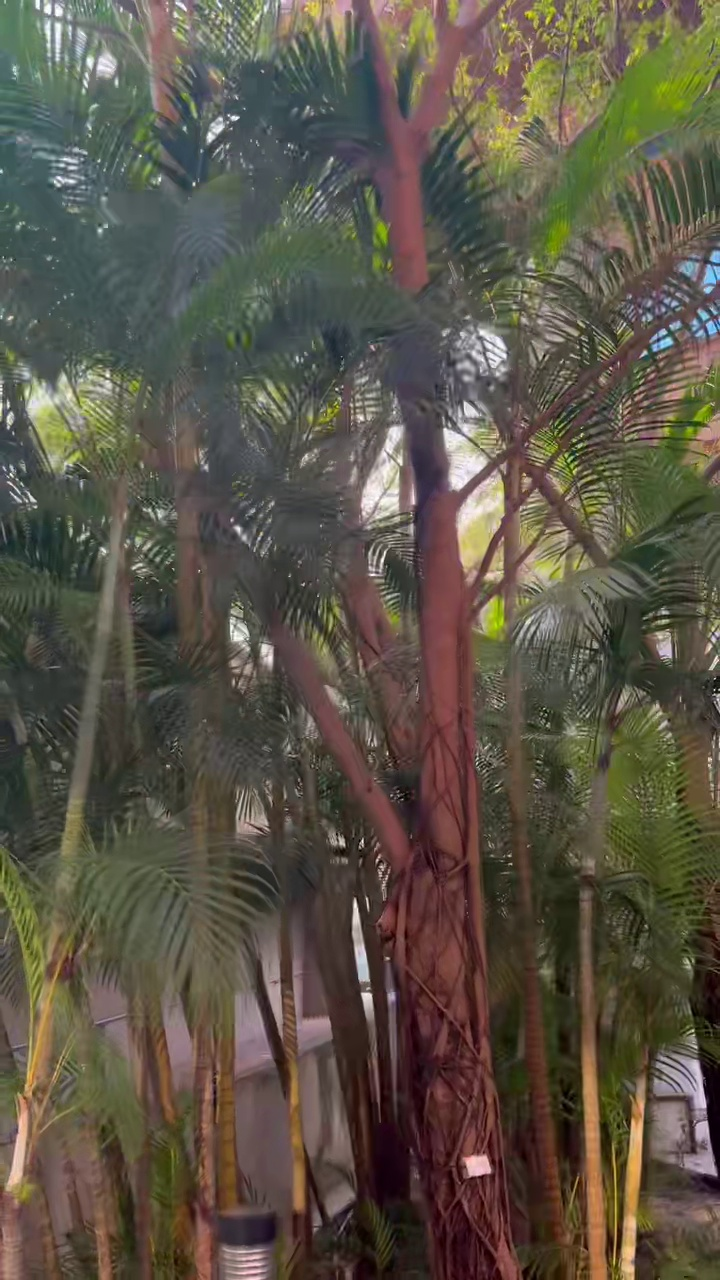Ficus benjamina: (270, 0, 520, 1279)
